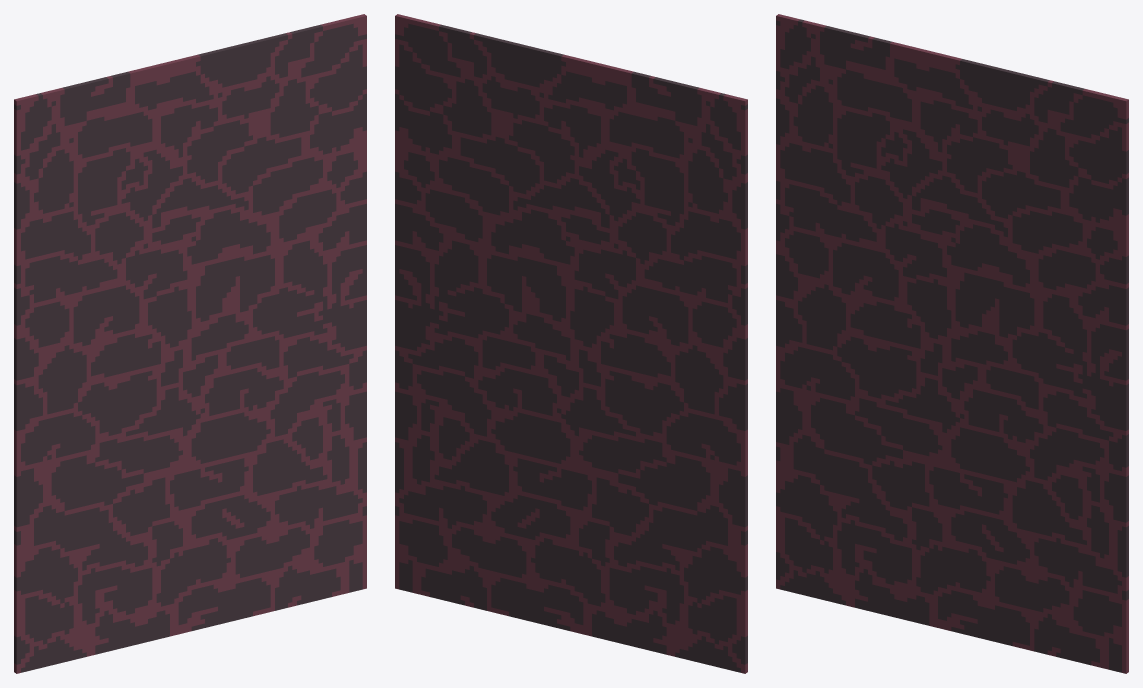
File: ParedRoja.obj
The picture shows the model from 3 angles, left to right: view 1: azimuth 30°, elevation 25°; view 2: azimuth 150°, elevation 25°; view 3: azimuth 330°, elevation 25°; orthographic projection.
Size of the model in its own units: 8 by 12.5 by 0.1.
1 material, 1 textured.
